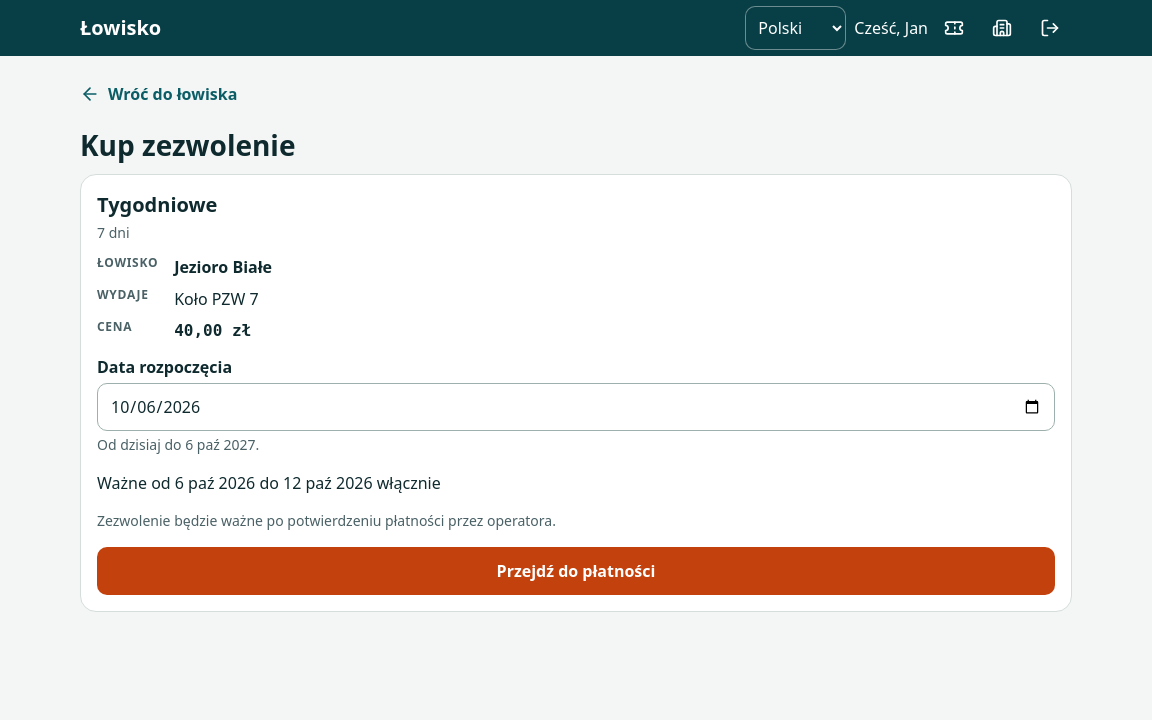
buy permit page › does not send the start 2026-10-05
The image size is (1152, 720).
Type "2026-10-05" into the date field labelled "Data rozpoczęcia". click: (576, 407)
box: [97,383,1055,431]
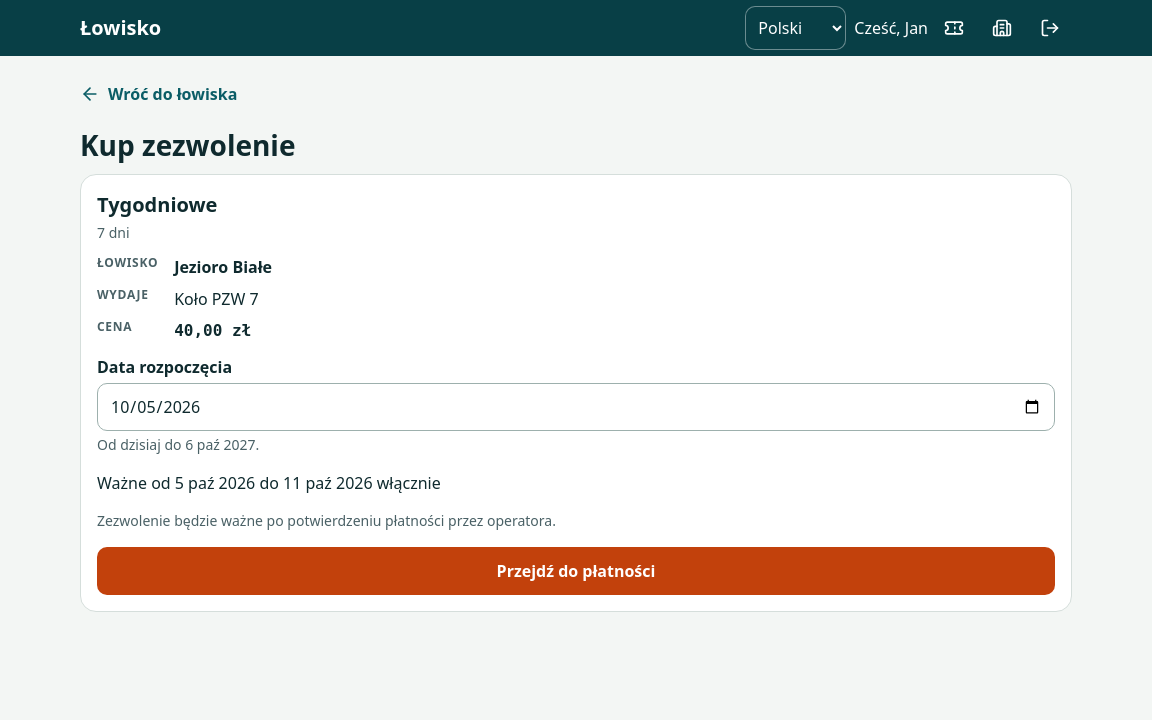
Click the button "Przejdź do płatności". click: (576, 571)
box: [97,547,1055,595]
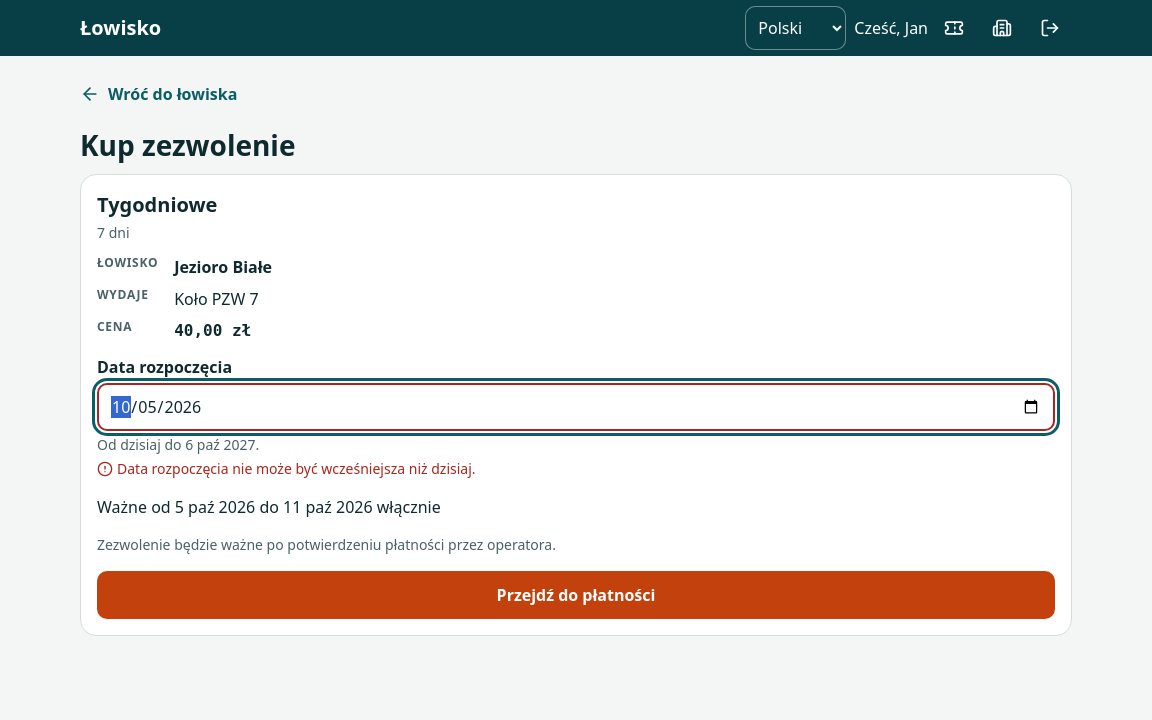
Now the text "Data rozpoczęcia nie może być wcześniejsza niż dzisiaj." is shown, box [97,459,476,478]
